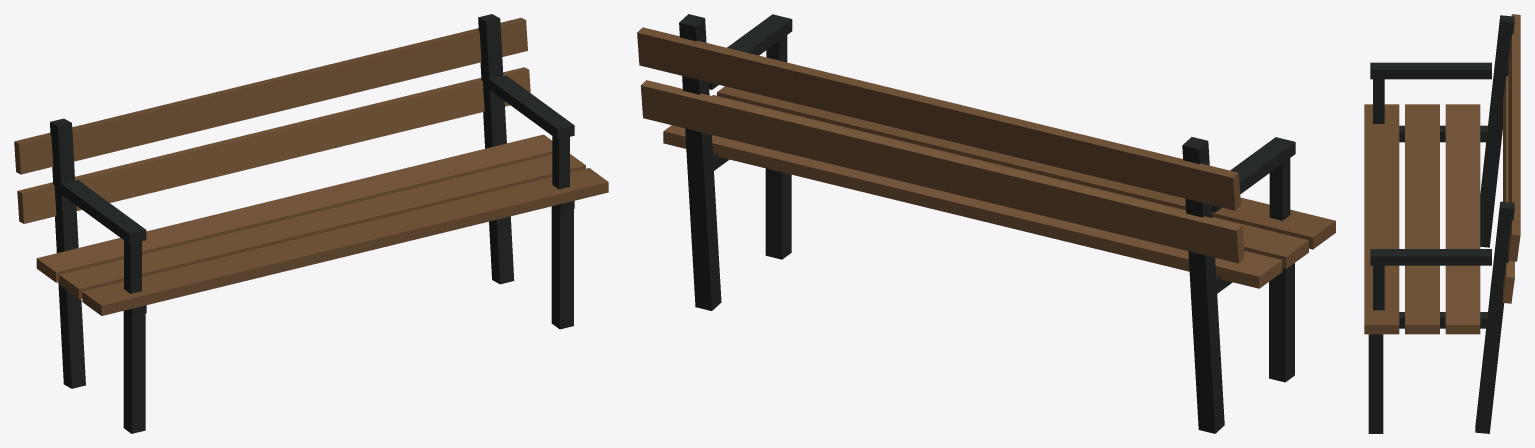
File: 0049-Street-furniture-bench.glb
The picture shows the model from 3 angles, left to right: view 1: azimuth 30°, elevation 25°; view 2: azimuth 150°, elevation 25°; view 3: azimuth 270°, elevation 25°; orthographic projection. The views are drawn at different scales.
Visible parts, largest first — view 1: Street furniture/bench; view 2: Street furniture/bench; view 3: Street furniture/bench.
Part boxes in pixels (x1=…): Street furniture/bench: x1=14, y1=14, x2=608, y2=433; Street furniture/bench: x1=637, y1=14, x2=1335, y2=433; Street furniture/bench: x1=1364, y1=14, x2=1520, y2=433.
Size of the model in its own units: 1.8 by 0.8607 by 0.5381.
